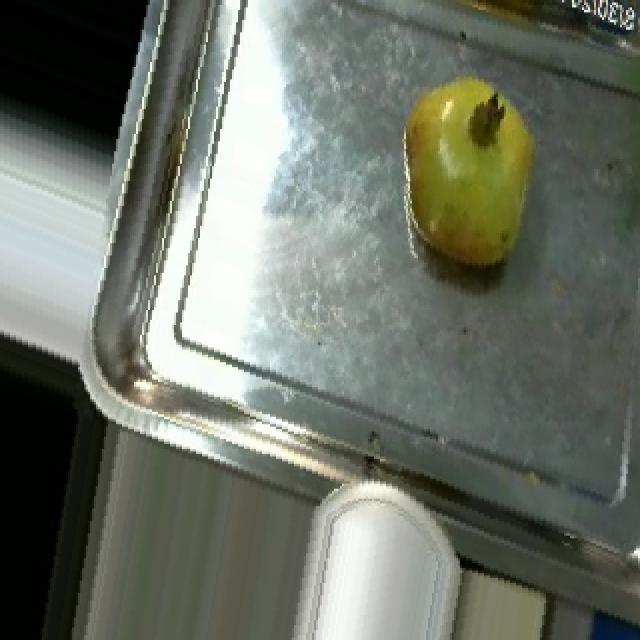fruit: (370, 45, 570, 292)
